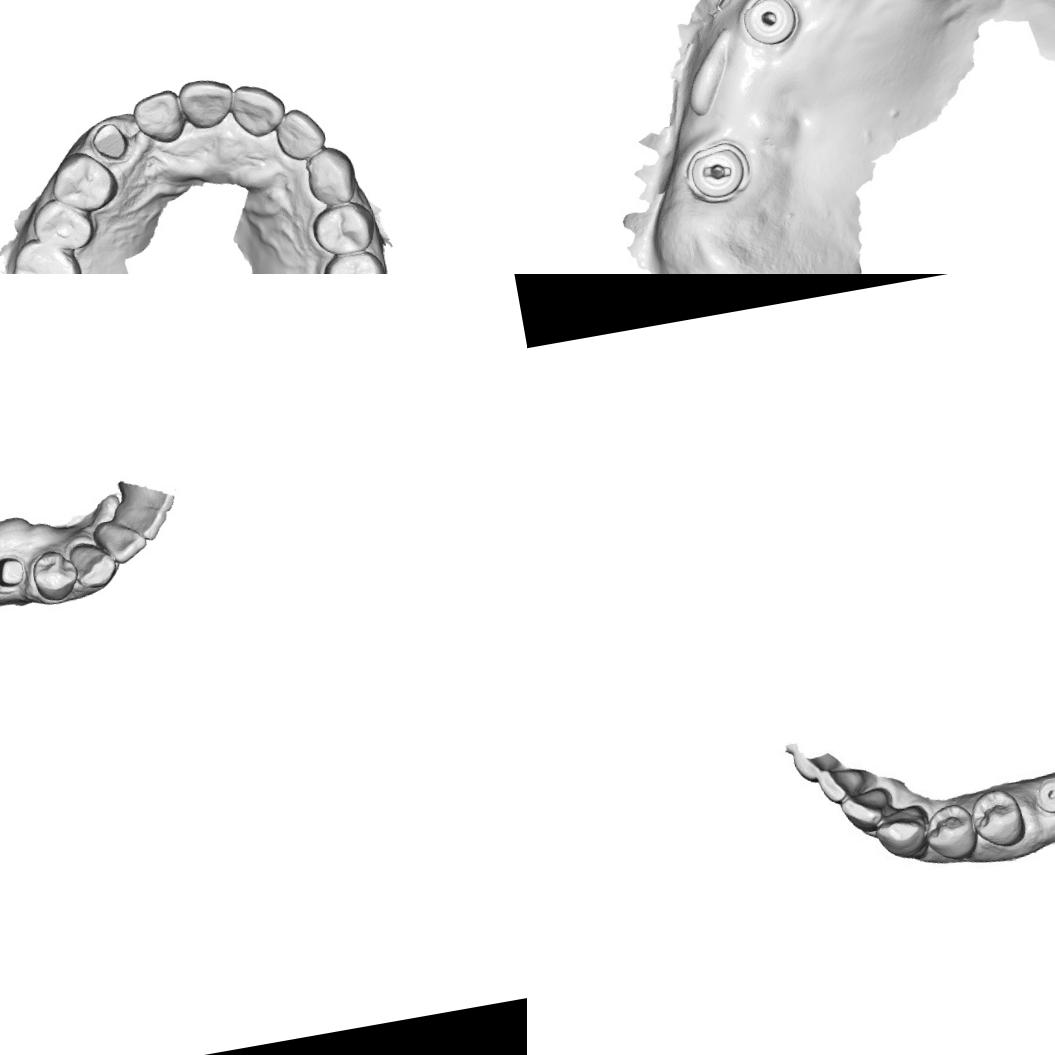abutment: (0, 550, 27, 590)
canine: (870, 801, 935, 865), (302, 142, 360, 209), (66, 537, 120, 591)
crown: (89, 120, 132, 166)
implant: (741, 0, 798, 49), (1031, 770, 1055, 817)
implant_minus: (678, 133, 752, 205)
incisor: (225, 78, 288, 140), (127, 86, 187, 148), (174, 74, 238, 132), (271, 102, 329, 164), (836, 782, 897, 836), (90, 514, 150, 568), (113, 472, 177, 520), (109, 498, 171, 546), (812, 760, 870, 806)
molar: (3, 230, 88, 274)
premolar: (45, 145, 122, 217), (28, 192, 96, 256), (308, 198, 378, 259), (967, 784, 1028, 852), (926, 802, 980, 862), (28, 545, 82, 604), (319, 247, 389, 274)
